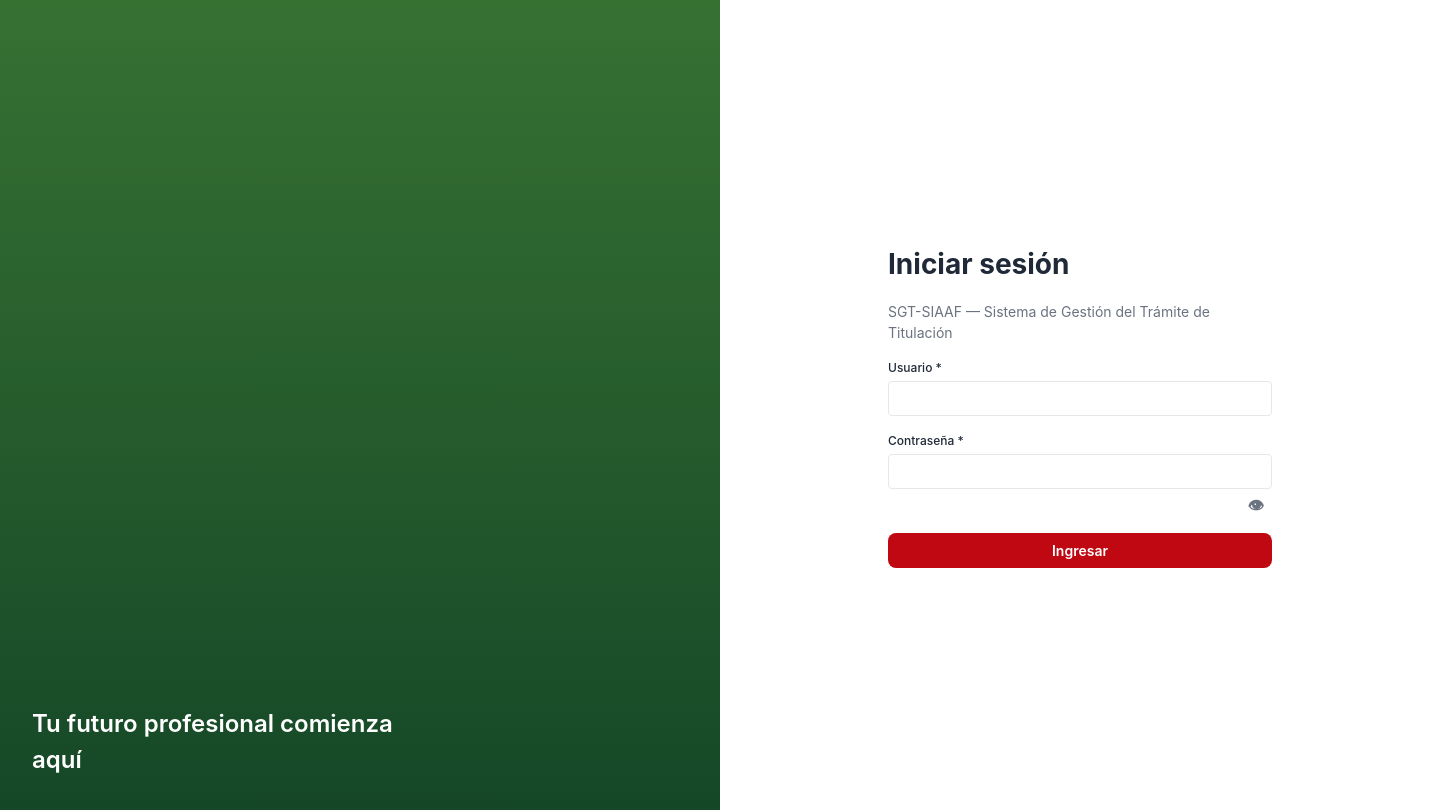
Test: LoginPage (V-01, integración real) › CA-V01-01: credenciales válidas redirigen al inicio del rol y persisten el access token
In the field labelled "Usuario *": (1080, 398) x1=888 y1=380 x2=1272 y2=416, type "estudiante.demo"
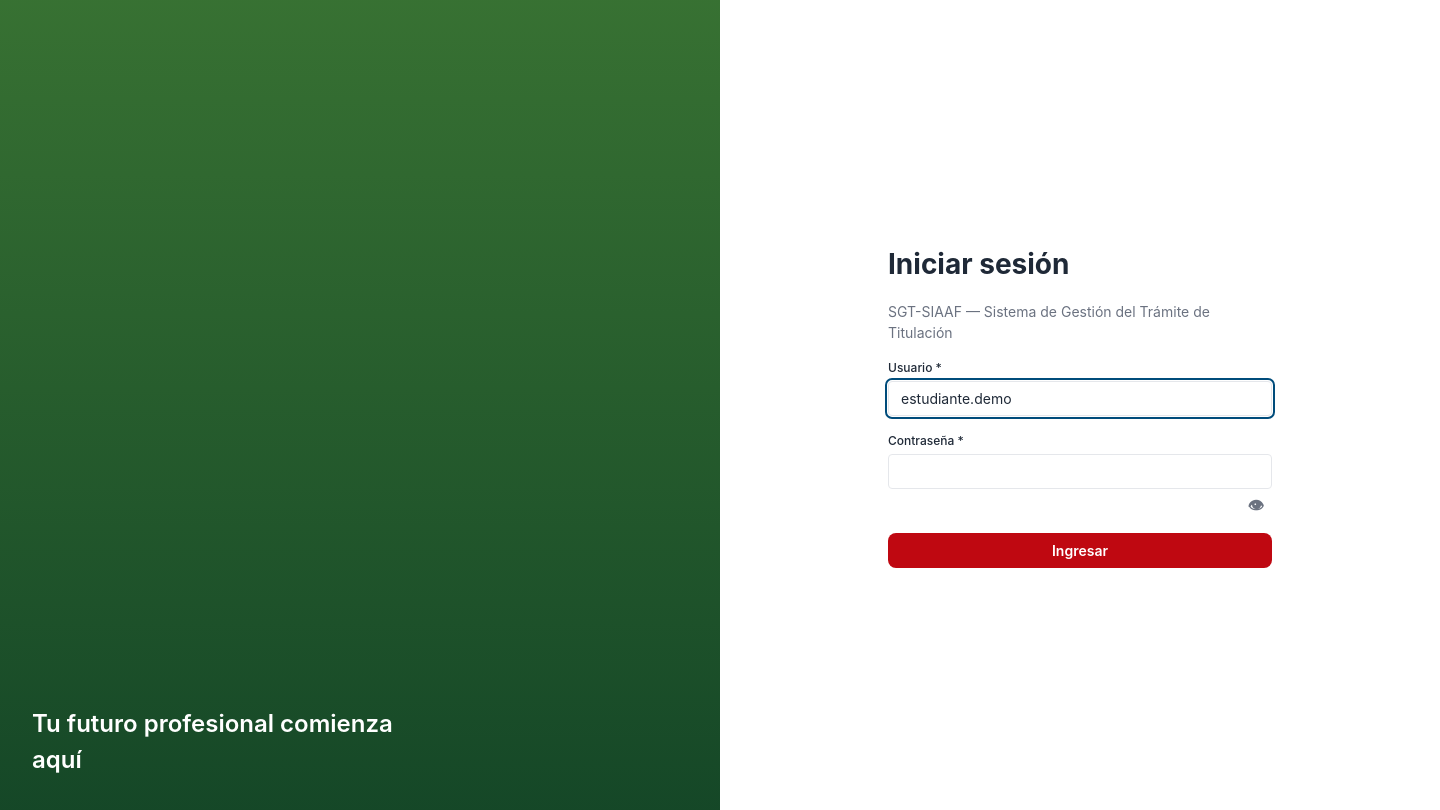
In the password field labelled "Contraseña *": (1080, 471) x1=888 y1=454 x2=1272 y2=488, type "demo-valida"
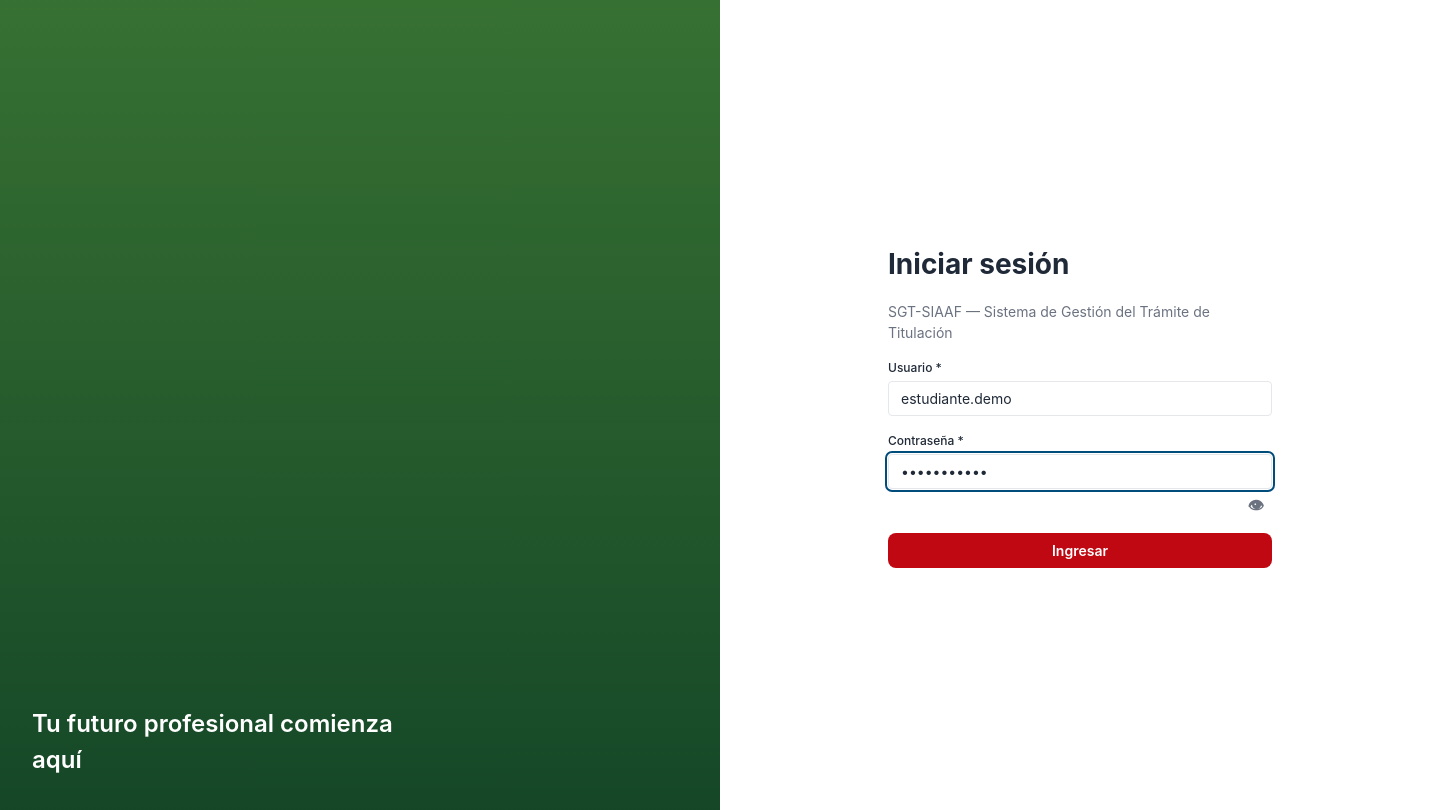
Click the button "Ingresar": (1080, 550) x1=888 y1=532 x2=1272 y2=568
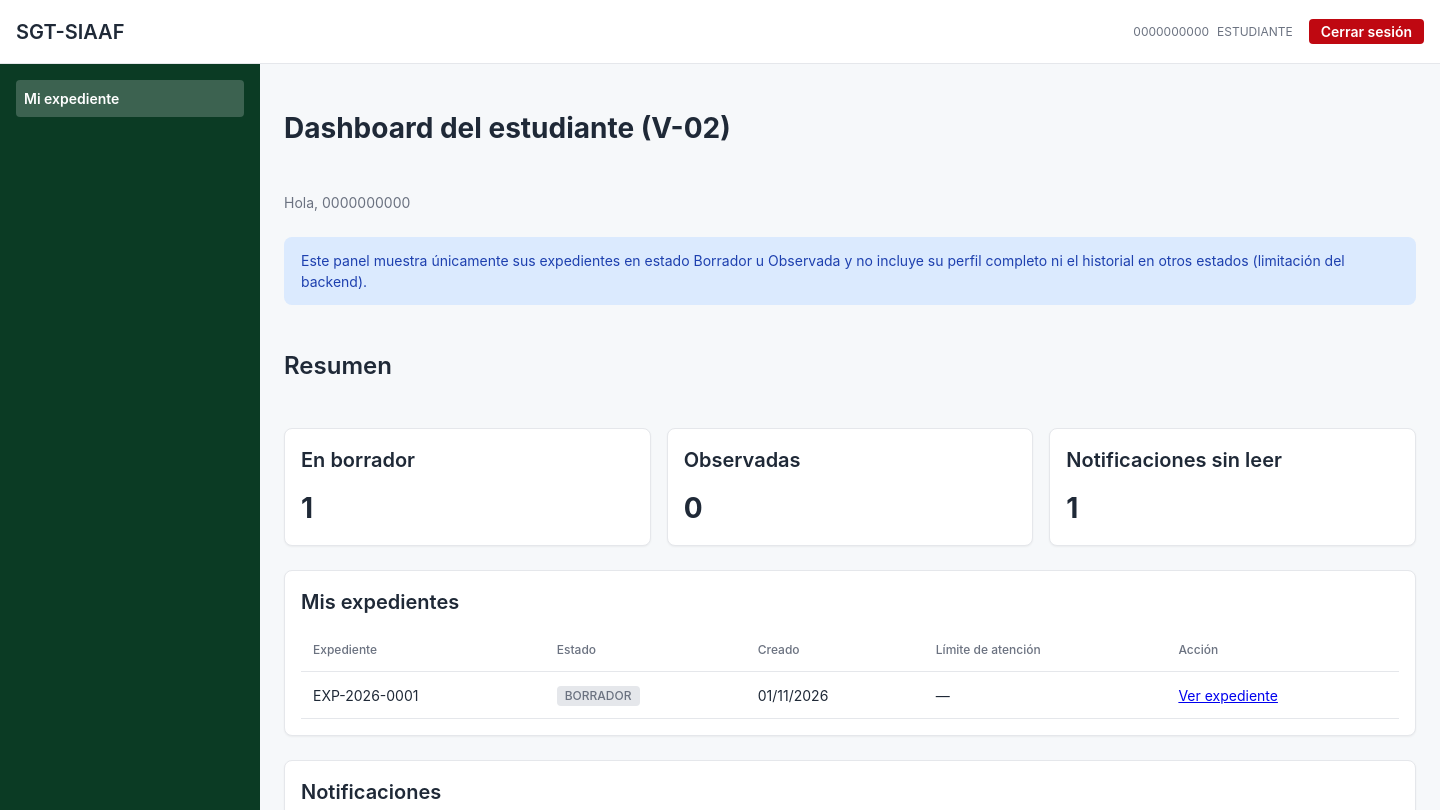
Check: the heading "Dashboard del estudiante (V-02)" is shown, box x1=284 y1=111 x2=731 y2=145
